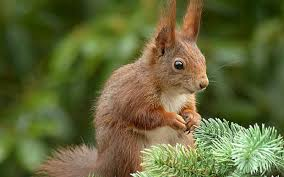Ardilla: (109, 27, 226, 139)
